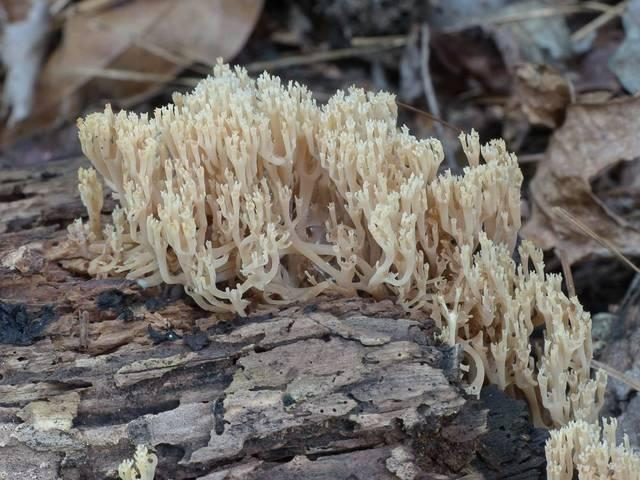edible_mushroom: (64, 56, 636, 477)
